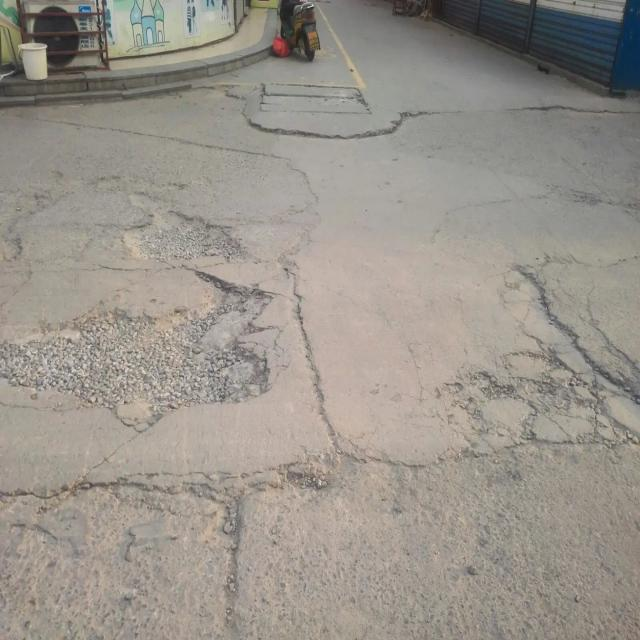Pothole: (1, 266, 278, 430), (119, 191, 242, 263)
